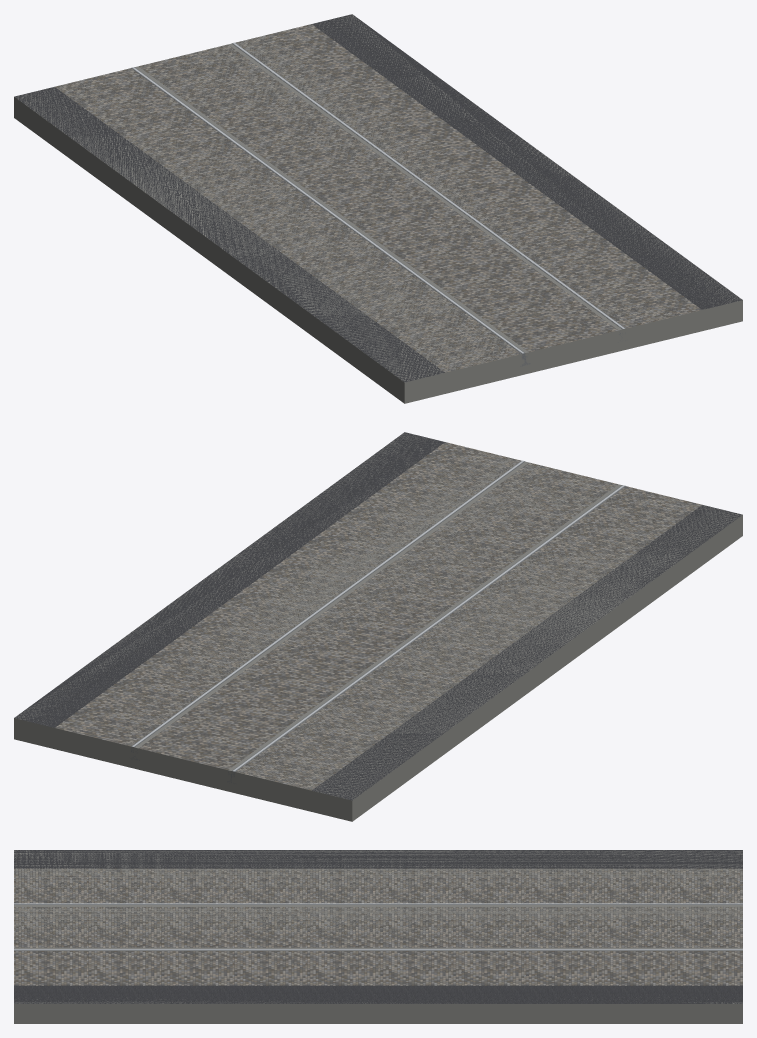
3 renders of one model, top to bottom at view 1: azimuth 30°, elevation 25°; view 2: azimuth 150°, elevation 25°; view 3: azimuth 270°, elevation 25°, orthographic. The views are drawn at different scales.
Parts seen in each view (by area): view 1: jp-track-tram; view 2: jp-track-tram; view 3: jp-track-tram.
Boxes of the visible parts, <box> form: jp-track-tram: <box>14,14,742,403</box>; jp-track-tram: <box>14,432,742,821</box>; jp-track-tram: <box>14,850,742,1023</box>.
Size of the model in its own units: 5 by 0.3048 by 10.
8 materials, 4 textured.
